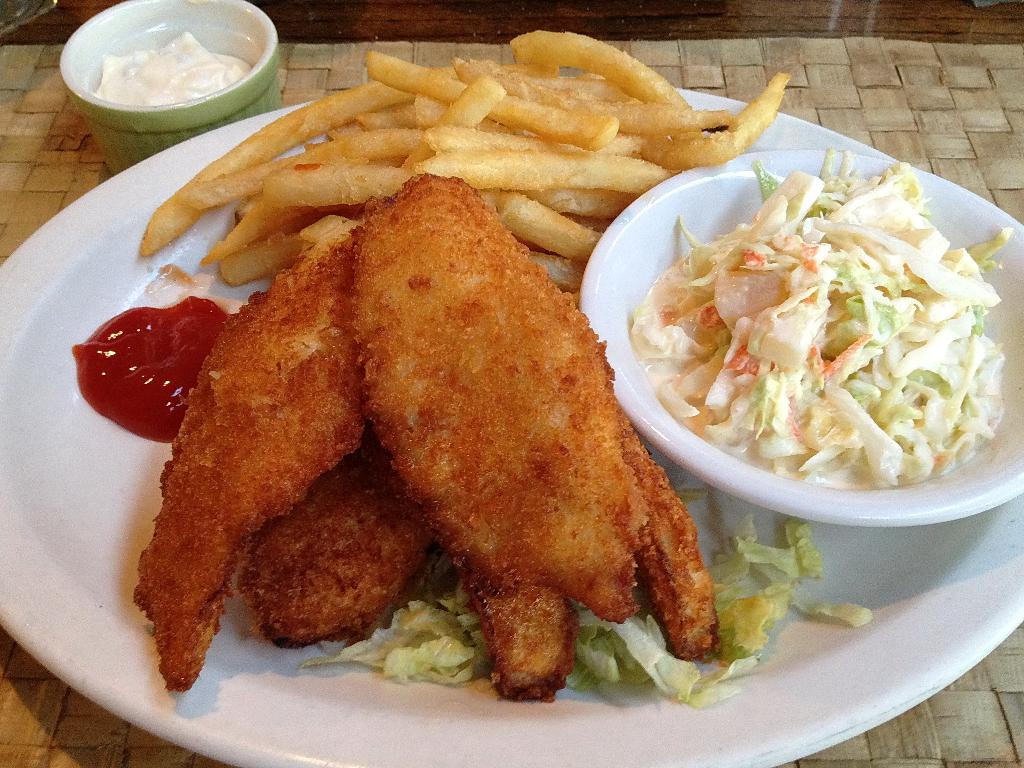French fries: (131, 19, 794, 296)
